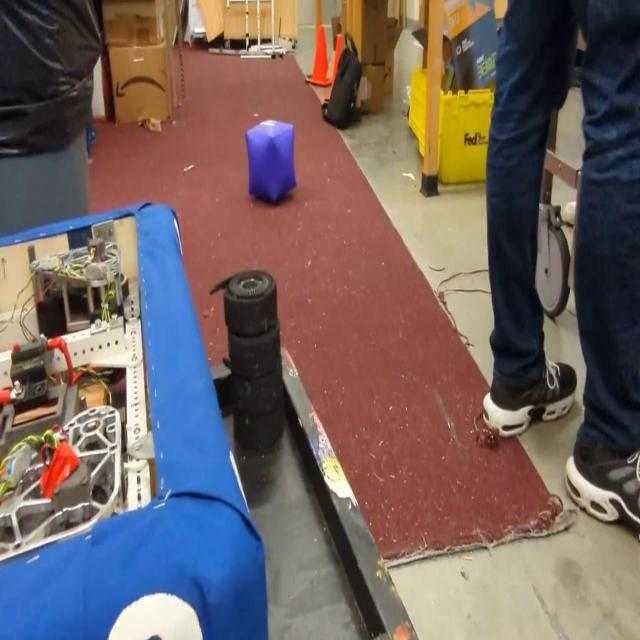frc_cube: (244, 118, 296, 206)
